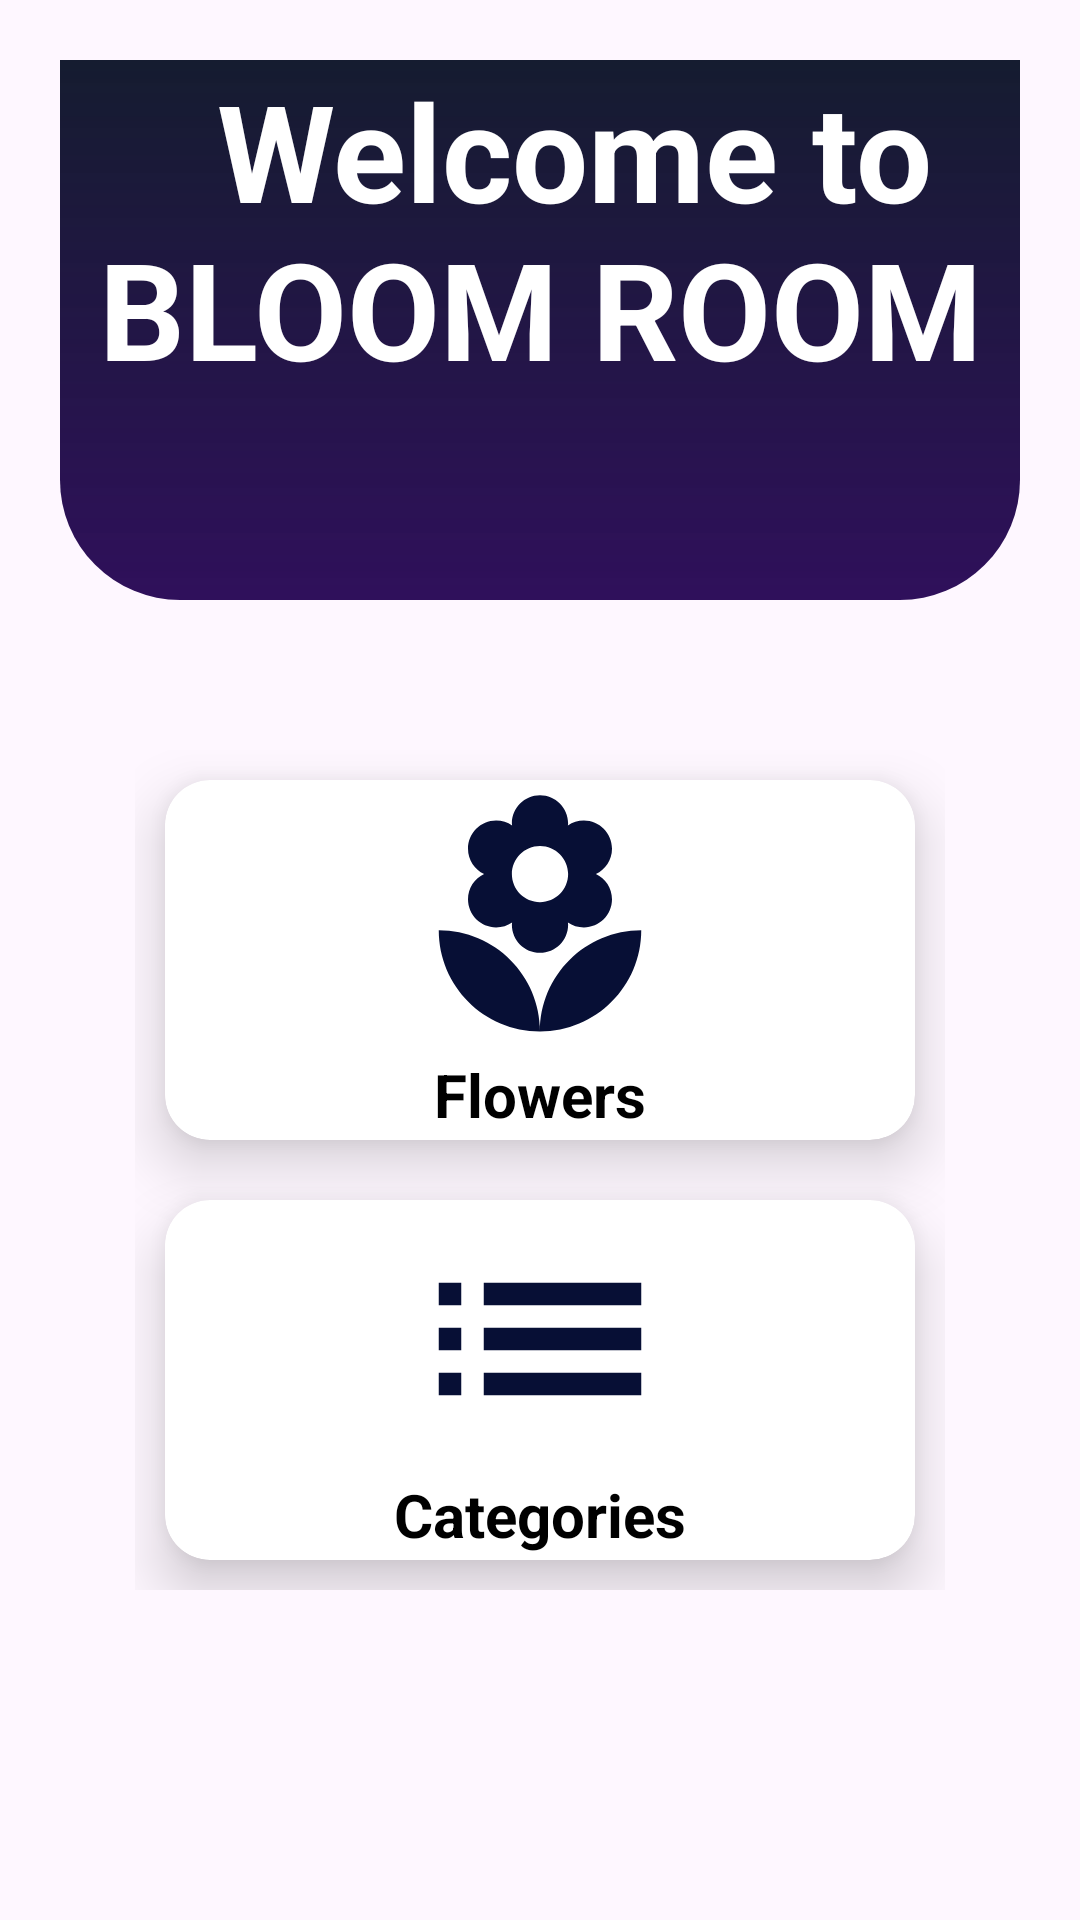

Named icons in this screenshot (1080w x 1920h) and their centers, point (x, y):
list: point (540, 1339)
